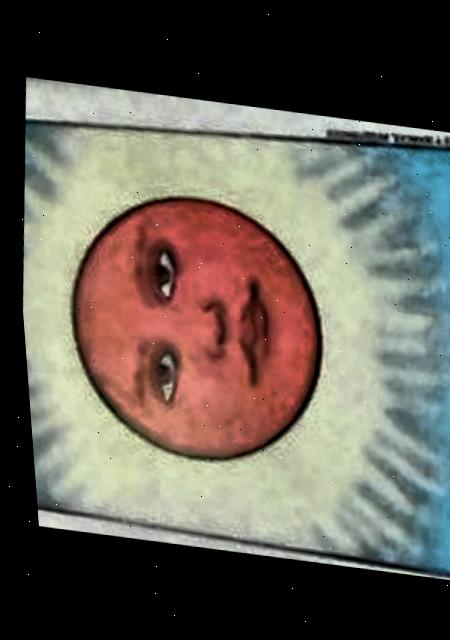El Sol: (18, 121, 450, 571)
